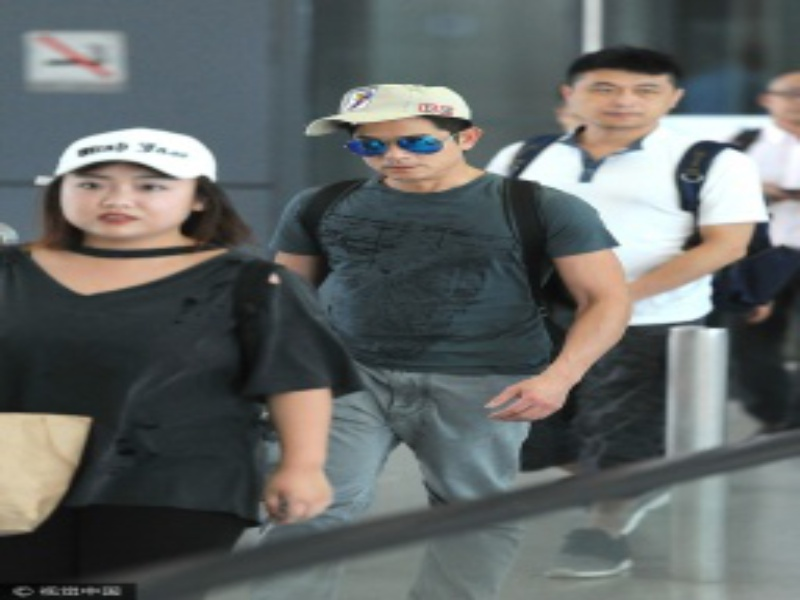TsisyArotava: (49, 117, 213, 274), (329, 78, 484, 195), (560, 26, 690, 161)
